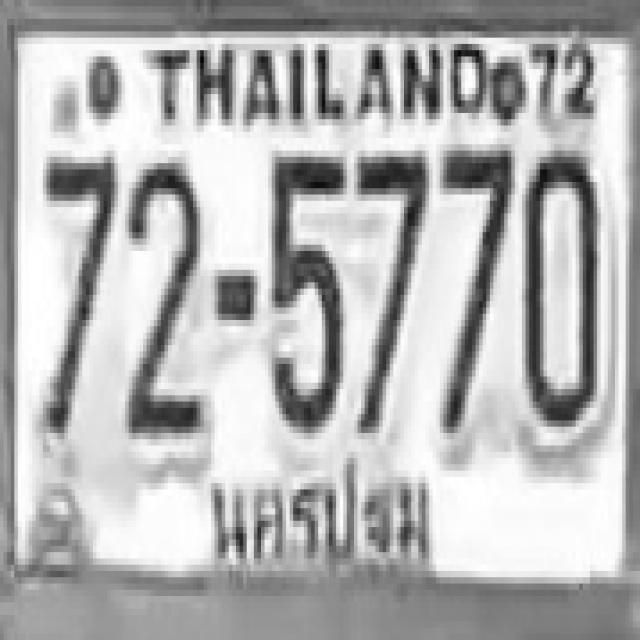0: (520, 144, 596, 433)
2: (124, 154, 198, 430)
5: (268, 150, 343, 427)
7: (436, 142, 511, 442), (36, 147, 114, 430), (354, 144, 425, 427)
NPT: (202, 457, 438, 592)
